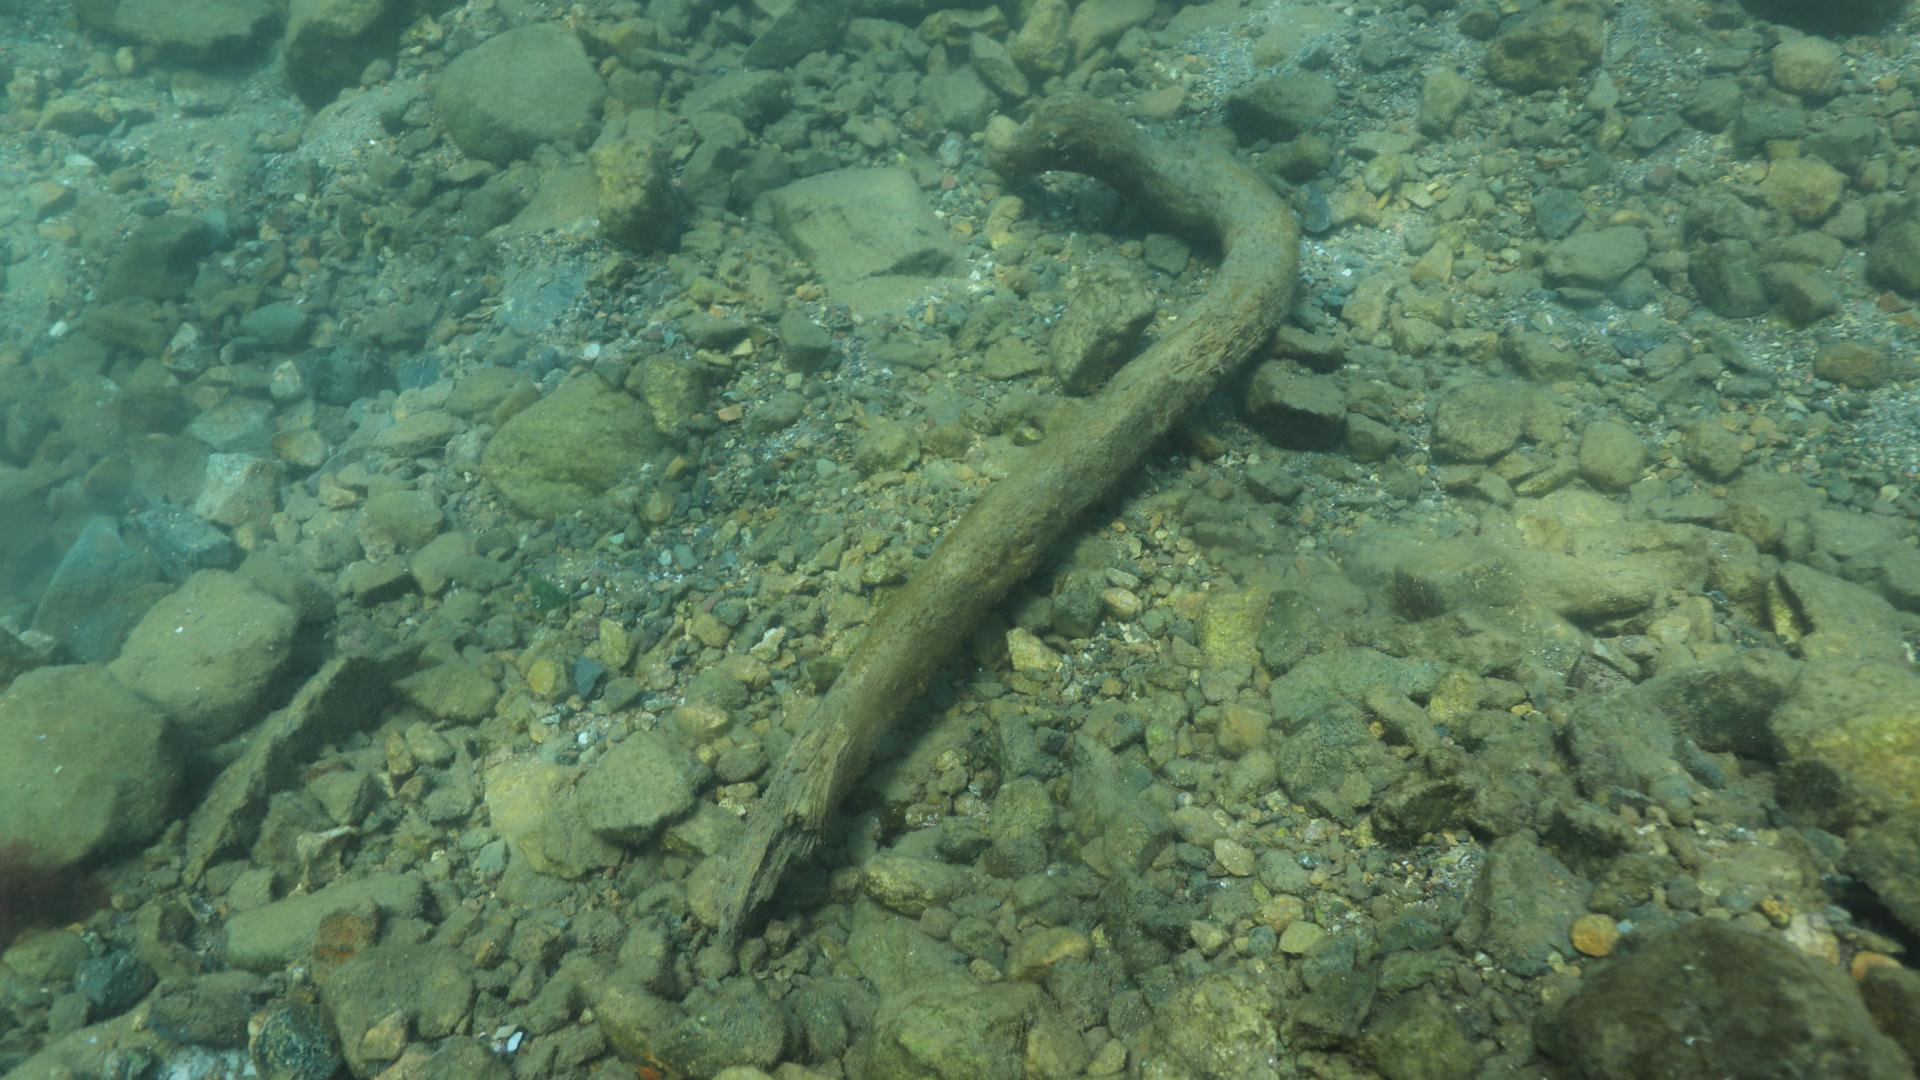wood: (713, 83, 1302, 953)
